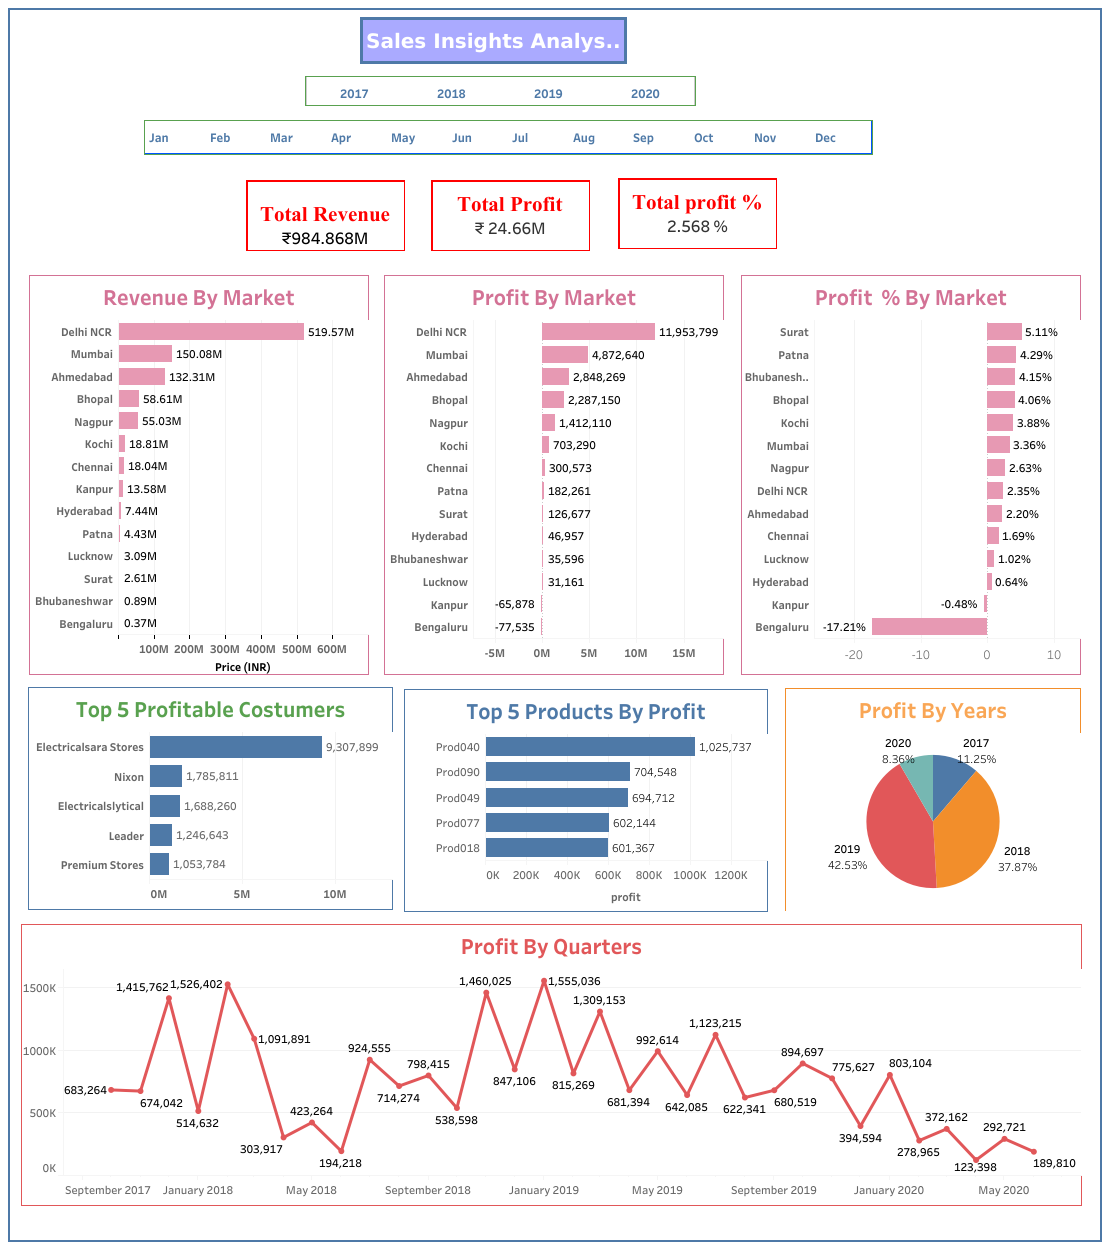

The page's visual inventory and layout, read from the dashboard file:
{"tool":"tableau","page":{"name":"Sales  - Profit","canvas":[1110,1250],"ordinal":0},"visuals":[{"type":"image","box":[10,10,1090,1230]},{"type":"text","box":[359.8,17.2,267.3,46.9]},{"type":"worksheet","title":"Year","mark":"Automatic","cols":["cy_date"],"box":[305.5,76,391,30]},{"type":"worksheet","title":"Month","mark":"Automatic","cols":["cy_date"],"box":[143.4,119,730.8,37]},{"type":"worksheet","title":"Total Profit %","mark":"Automatic","box":[617.9,178,159.1,71]},{"type":"worksheet","title":"Revenue","mark":"Automatic","box":[245.6,180,159.1,71]},{"type":"worksheet","title":"Total Profit","mark":"Automatic","box":[431.2,180,159.1,71]},{"type":"worksheet","title":"Revenue By Market","mark":"Automatic","rows":["markets_name"],"cols":["Calculation_613896927939850240"],"box":[29.5,275,339.9,400]},{"type":"worksheet","title":"Profit By Market","mark":"Automatic","rows":["markets_name"],"cols":["profit_margin"],"box":[384.1,275,339.9,400]},{"type":"worksheet","title":"Profit  % By Market ","mark":"Automatic","rows":["markets_name"],"cols":["Calculation_1210060929608200192"],"box":[740.7,275,339.9,400]},{"type":"worksheet","title":"Top 5 Profitable Costumers","mark":"Automatic","rows":["custmer_name"],"cols":["profit_margin"],"box":[28.5,687,364.4,223]},{"type":"worksheet","title":"Profit By Years","mark":"Pie","box":[784.9,688,295.7,223]},{"type":"worksheet","title":"Top 5 Products By Profit","mark":"Automatic","rows":["product_code (products)"],"cols":["profit_margin"],"box":[403.7,689,364.4,223]},{"type":"worksheet","title":"Profit By Quarters","mark":"Automatic","rows":["profit_margin"],"cols":["cy_date"],"box":[20.6,924,1061.9,282]}]}

Visuals, with their boxes in screenshot pixels (x1, y1, x2, y2), scaled from the page's 1110x1250 canvas onto the 1110x1250 screenshot:
image: 10 10 1100 1240
text: 360 17 627 64
"Year" worksheet: 306 76 696 106
"Month" worksheet: 143 119 874 156
"Total Profit %" worksheet: 618 178 777 249
"Revenue" worksheet: 246 180 405 251
"Total Profit" worksheet: 431 180 590 251
"Revenue By Market" worksheet: 30 275 369 675
"Profit By Market" worksheet: 384 275 724 675
"Profit  % By Market " worksheet: 741 275 1081 675
"Top 5 Profitable Costumers" worksheet: 28 687 393 910
"Profit By Years" worksheet (Pie marks): 785 688 1081 911
"Top 5 Products By Profit" worksheet: 404 689 768 912
"Profit By Quarters" worksheet: 21 924 1082 1206
